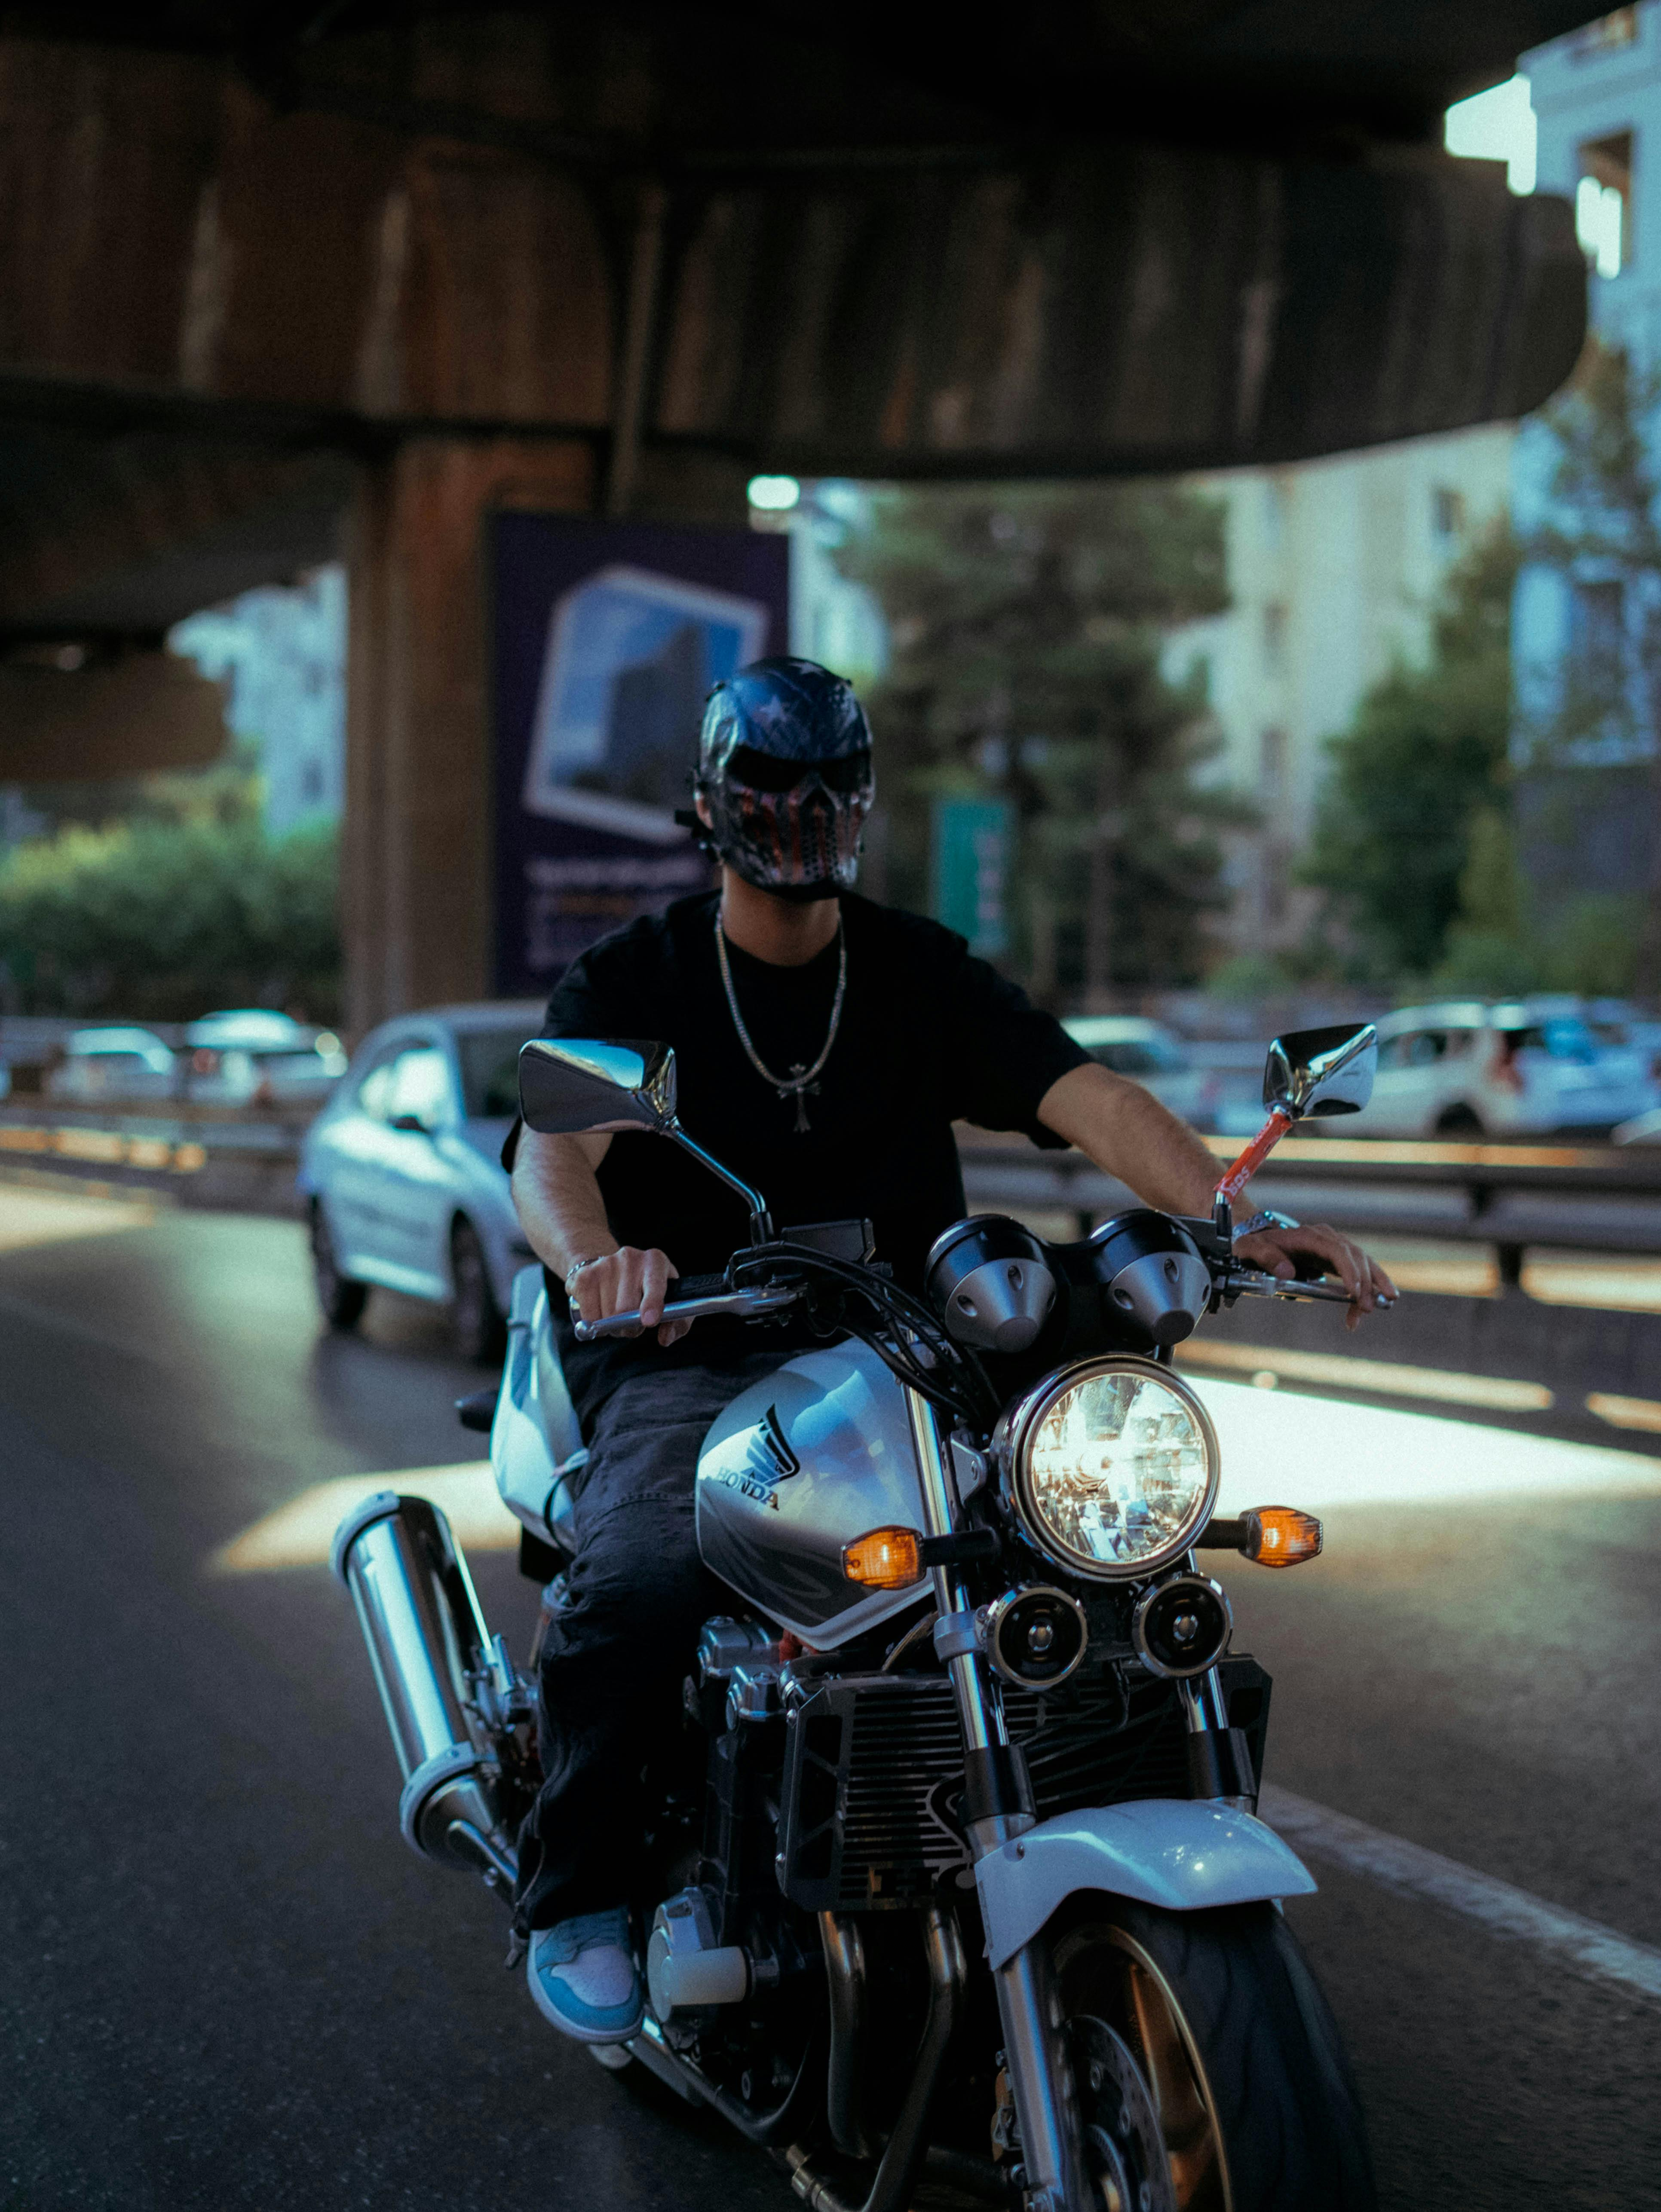capacete: (673, 647, 881, 905)
